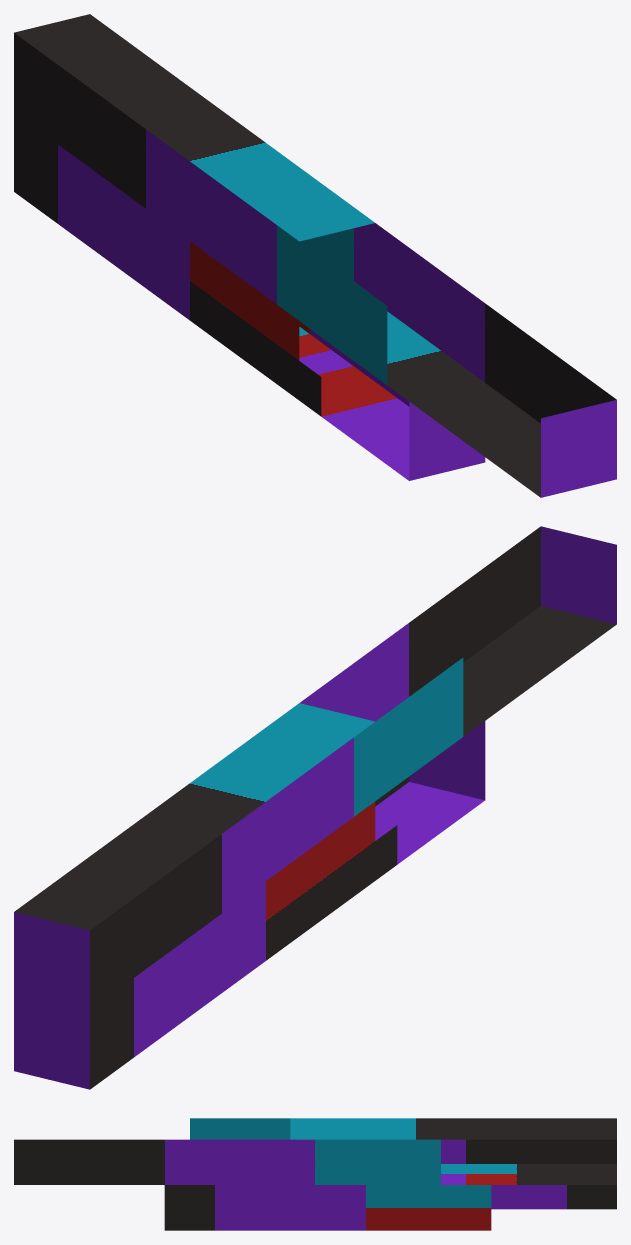
Rendered from Rifle.obj.
3 renders of one model, top to bottom at view 1: azimuth 30°, elevation 25°; view 2: azimuth 150°, elevation 25°; view 3: azimuth 270°, elevation 25°, orthographic. The views are drawn at different scales.
Parts seen in each view (by area): view 1: Rifle; view 2: Rifle; view 3: Rifle.
Boxes of the visible parts, left/top/right/bottom form: Rifle: left=14, top=14, right=616, bottom=497; Rifle: left=14, top=526, right=616, bottom=1089; Rifle: left=14, top=1118, right=616, bottom=1230.
Size of the model in its own units: 0.0625 by 0.125 by 0.75.
